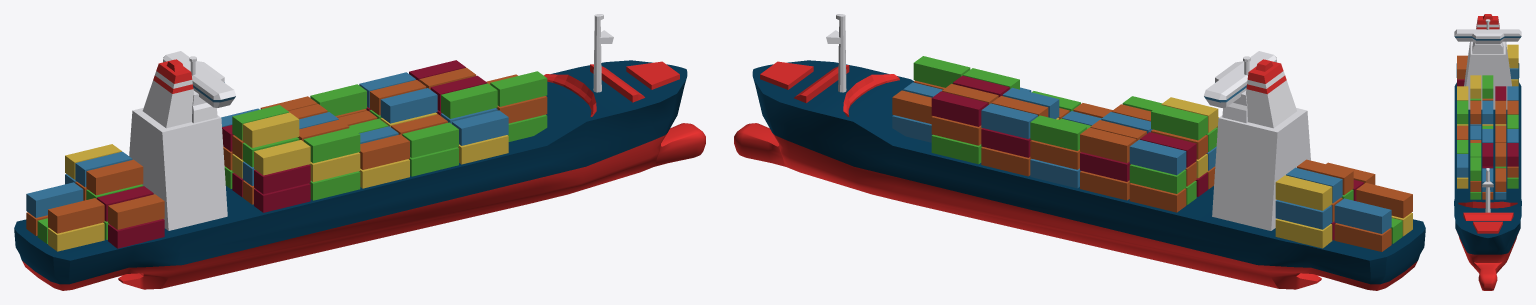
The model's file is Cargo Ship.fbx.
The picture shows the model from 3 angles, left to right: view 1: azimuth 30°, elevation 25°; view 2: azimuth 150°, elevation 25°; view 3: azimuth 270°, elevation 25°; orthographic projection. The views are drawn at different scales.
Parts seen in each view (by area): view 1: Cube; view 2: Cube; view 3: Cube.
Boxes of the visible parts, box(x1,y1,x2,y2) form: Cube: box(14, 14, 705, 290); Cube: box(734, 14, 1425, 290); Cube: box(1454, 14, 1521, 290).
Bounding box in the file's own units: 1996 × 619 × 298.
